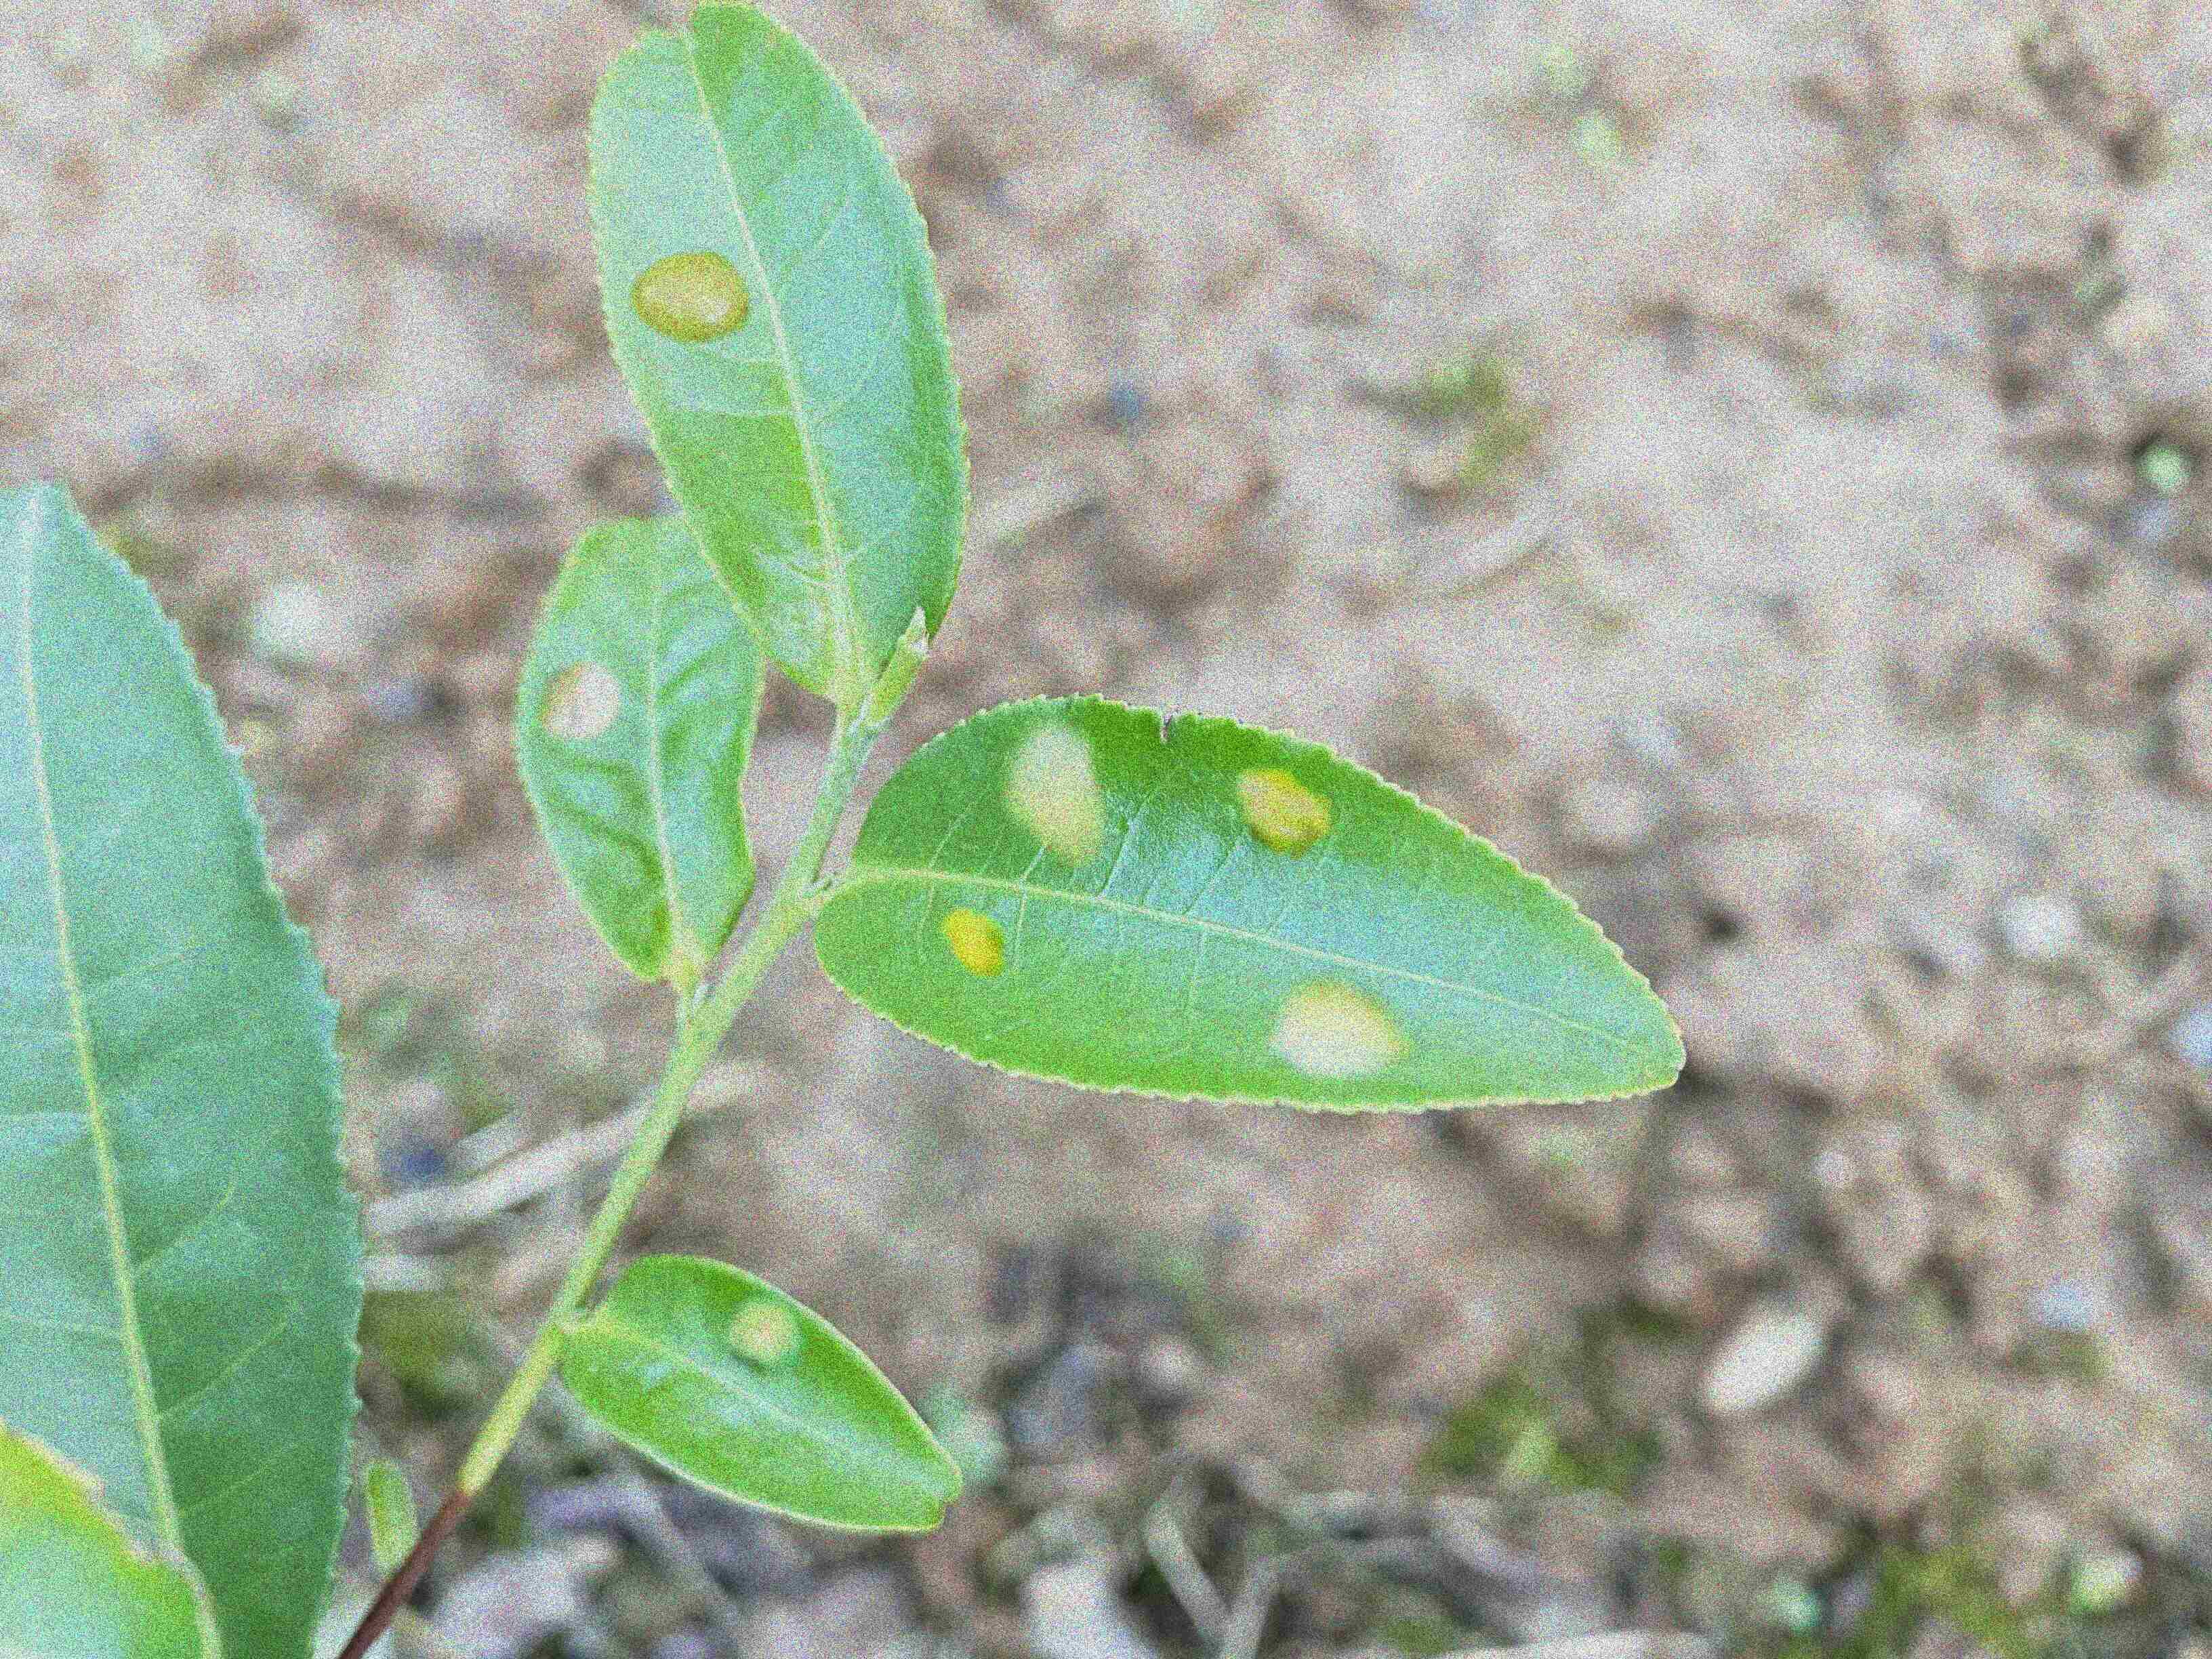chabing_high: (808, 690, 1689, 1115)
chabing_low: (587, 0, 974, 695), (510, 514, 765, 986), (559, 1253, 967, 1535)
